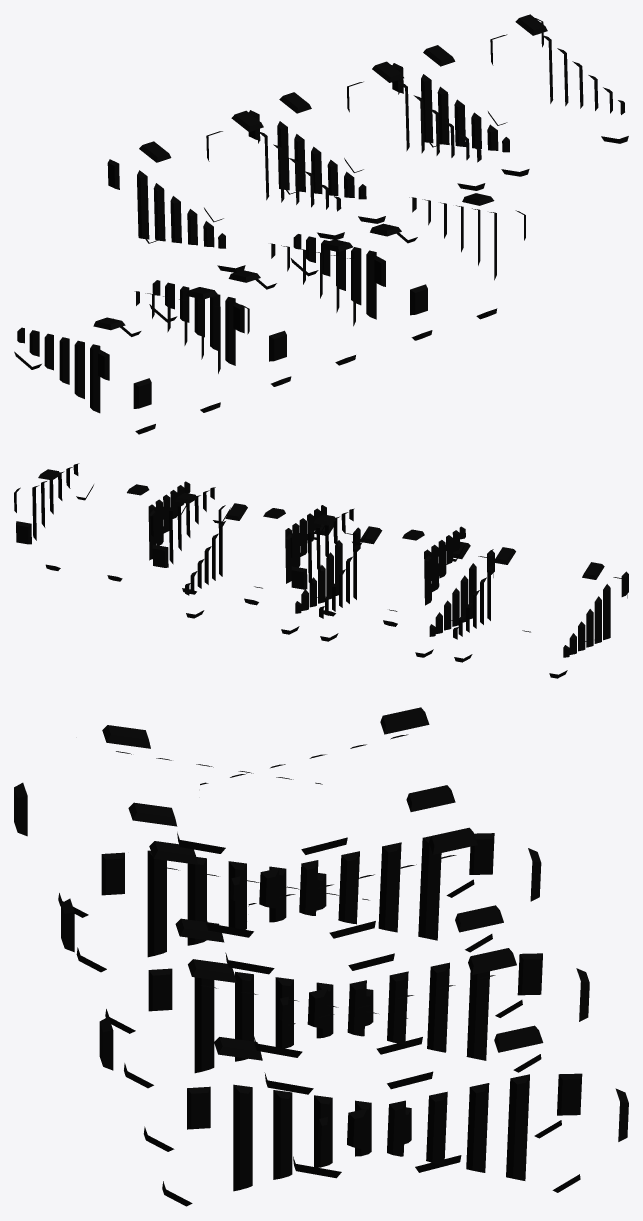
Rendered from prop_static_tan_container_01_13.glb.
The picture shows the model from 3 angles, top to bottom: view 1: azimuth 30°, elevation 25°; view 2: azimuth 150°, elevation 25°; view 3: azimuth 270°, elevation 25°; orthographic projection. The views are drawn at different scales.
Visible parts, largest first — view 1: tan_container_01_13_LOD0; view 2: tan_container_01_13_LOD0; view 3: tan_container_01_13_LOD0.
Part boxes in pixels (<box>): tan_container_01_13_LOD0: <box>14,14,628,434</box>; tan_container_01_13_LOD0: <box>14,463,628,678</box>; tan_container_01_13_LOD0: <box>14,707,628,1206</box>.
Size of what is drawn, in the model's own units: 8.11 by 2.34 by 4.5.
1 material, 1 textured.
